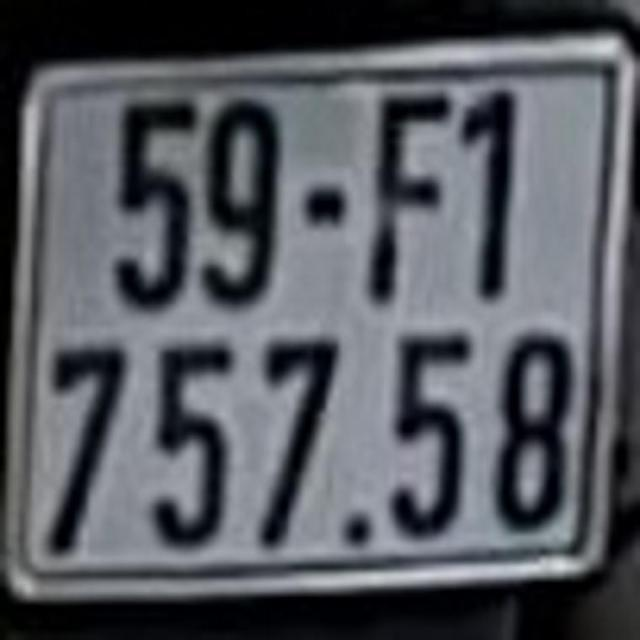1: (461, 86, 517, 302)
5: (112, 97, 200, 305), (388, 331, 472, 535), (153, 347, 234, 544)
7: (258, 332, 338, 534), (46, 352, 122, 547)
8: (501, 335, 568, 523)
9: (203, 98, 280, 297)
F: (370, 90, 450, 297)
